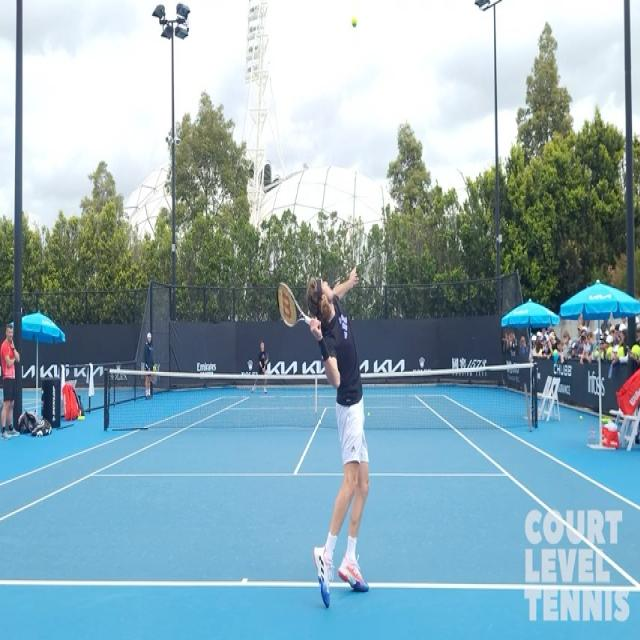serve_hit: (275, 205, 384, 614)
